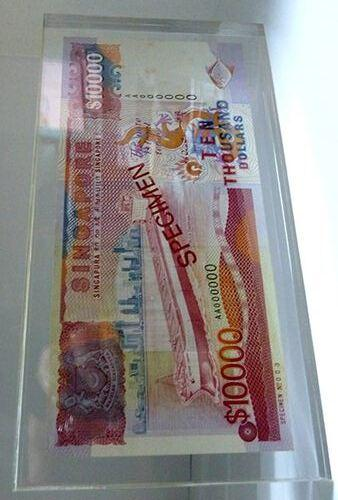10000SingaporeDollar: (57, 37, 276, 449)
